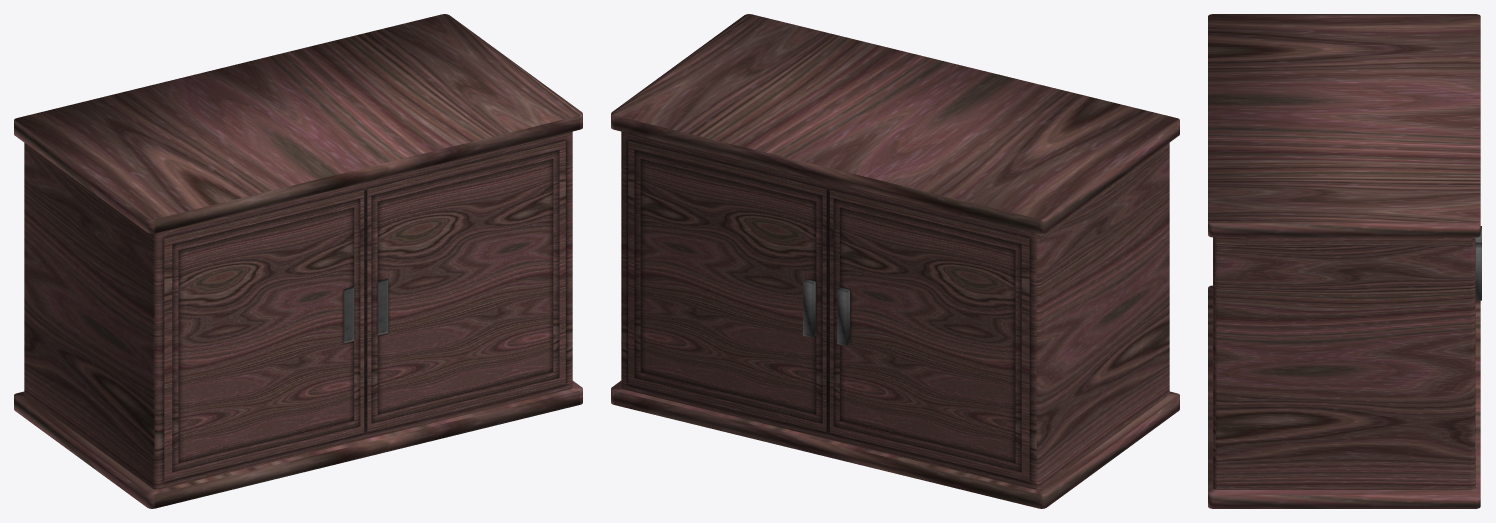
File: Wide_cupboard_top.fbx
3 renders of one model, left to right at view 1: azimuth 30°, elevation 25°; view 2: azimuth 150°, elevation 25°; view 3: azimuth 270°, elevation 25°, orthographic.
Visible parts, largest first — view 1: Wide_cupboard_top; view 2: Wide_cupboard_top; view 3: Wide_cupboard_top.
Part boxes in pixels (bbox=[...]): Wide_cupboard_top: bbox=[14, 14, 582, 508]; Wide_cupboard_top: bbox=[611, 14, 1179, 508]; Wide_cupboard_top: bbox=[1208, 14, 1481, 508].
Size of the model in its own units: 0.6449 by 0.4103 by 0.3564.
1 material, 1 textured.
